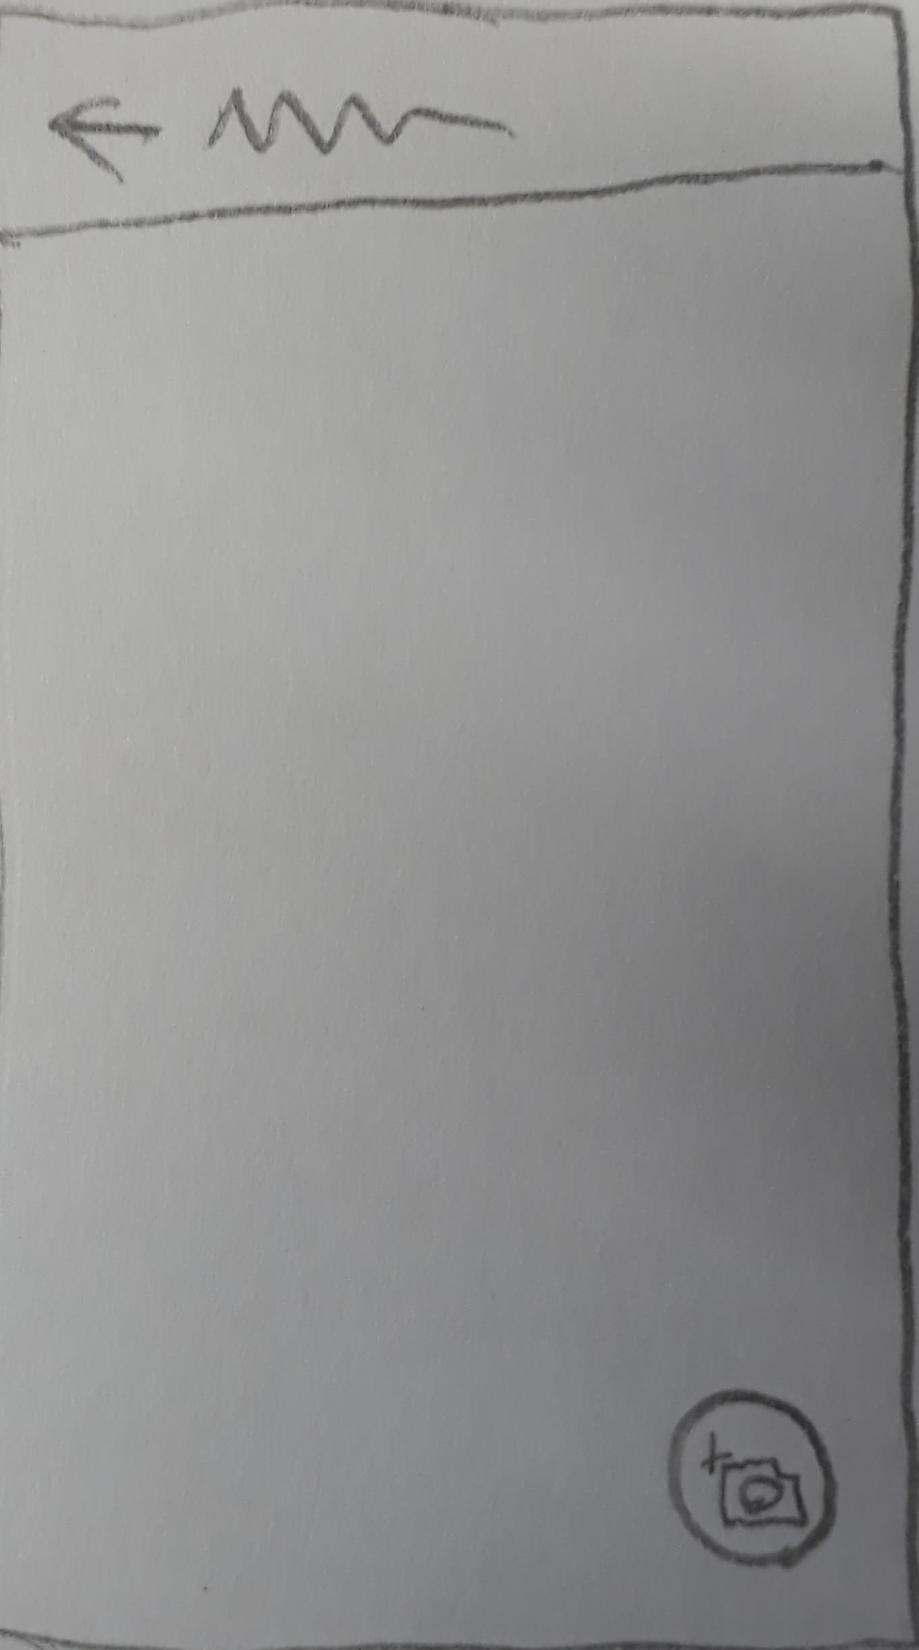Button: (40, 84, 168, 192)
Label: (205, 86, 517, 154)
Screen: (2, 1, 916, 1648)
